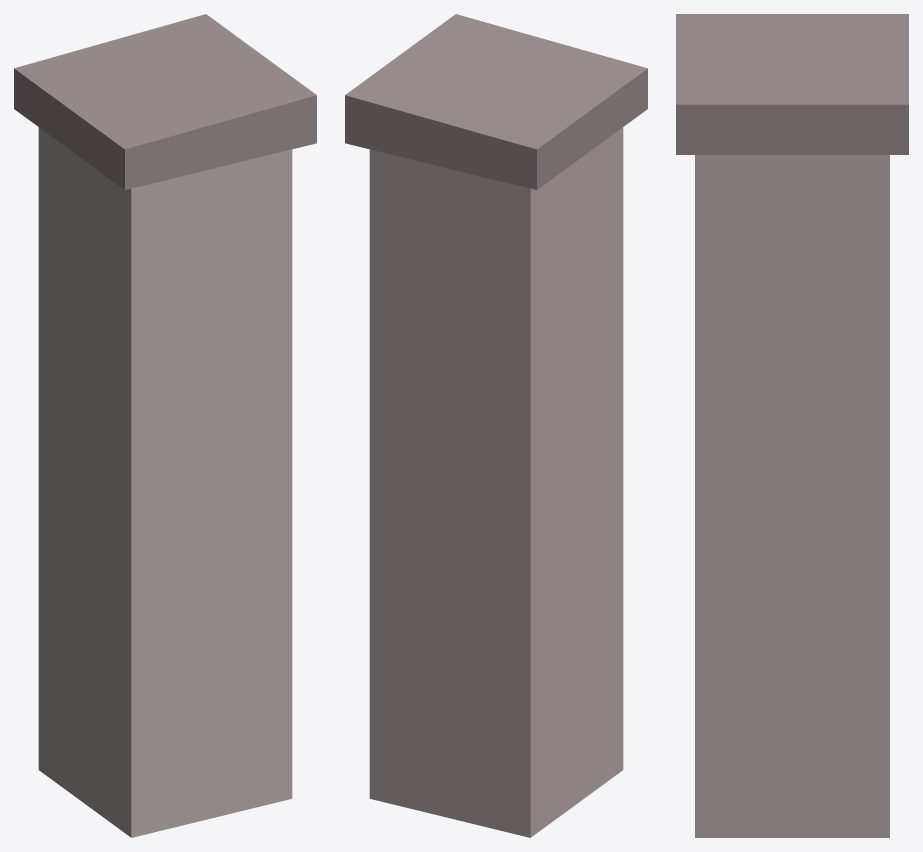
The model's file is HWN20_Column_01.glb.
The picture shows the model from 3 angles, left to right: view 1: azimuth 30°, elevation 25°; view 2: azimuth 150°, elevation 25°; view 3: azimuth 270°, elevation 25°; orthographic projection. The views are drawn at different scales.
Parts seen in each view (by area): view 1: HWN20_Column_01; view 2: HWN20_Column_01; view 3: HWN20_Column_01.
Boxes of the visible parts, x1,y1,x2,y2 form: HWN20_Column_01: (14, 14, 316, 837); HWN20_Column_01: (345, 14, 647, 837); HWN20_Column_01: (676, 14, 908, 837).
Size of what is drawn, in the model's own units: 0.8101 by 2.85 by 0.8101.
Materials: 1 (1 with a texture image).
